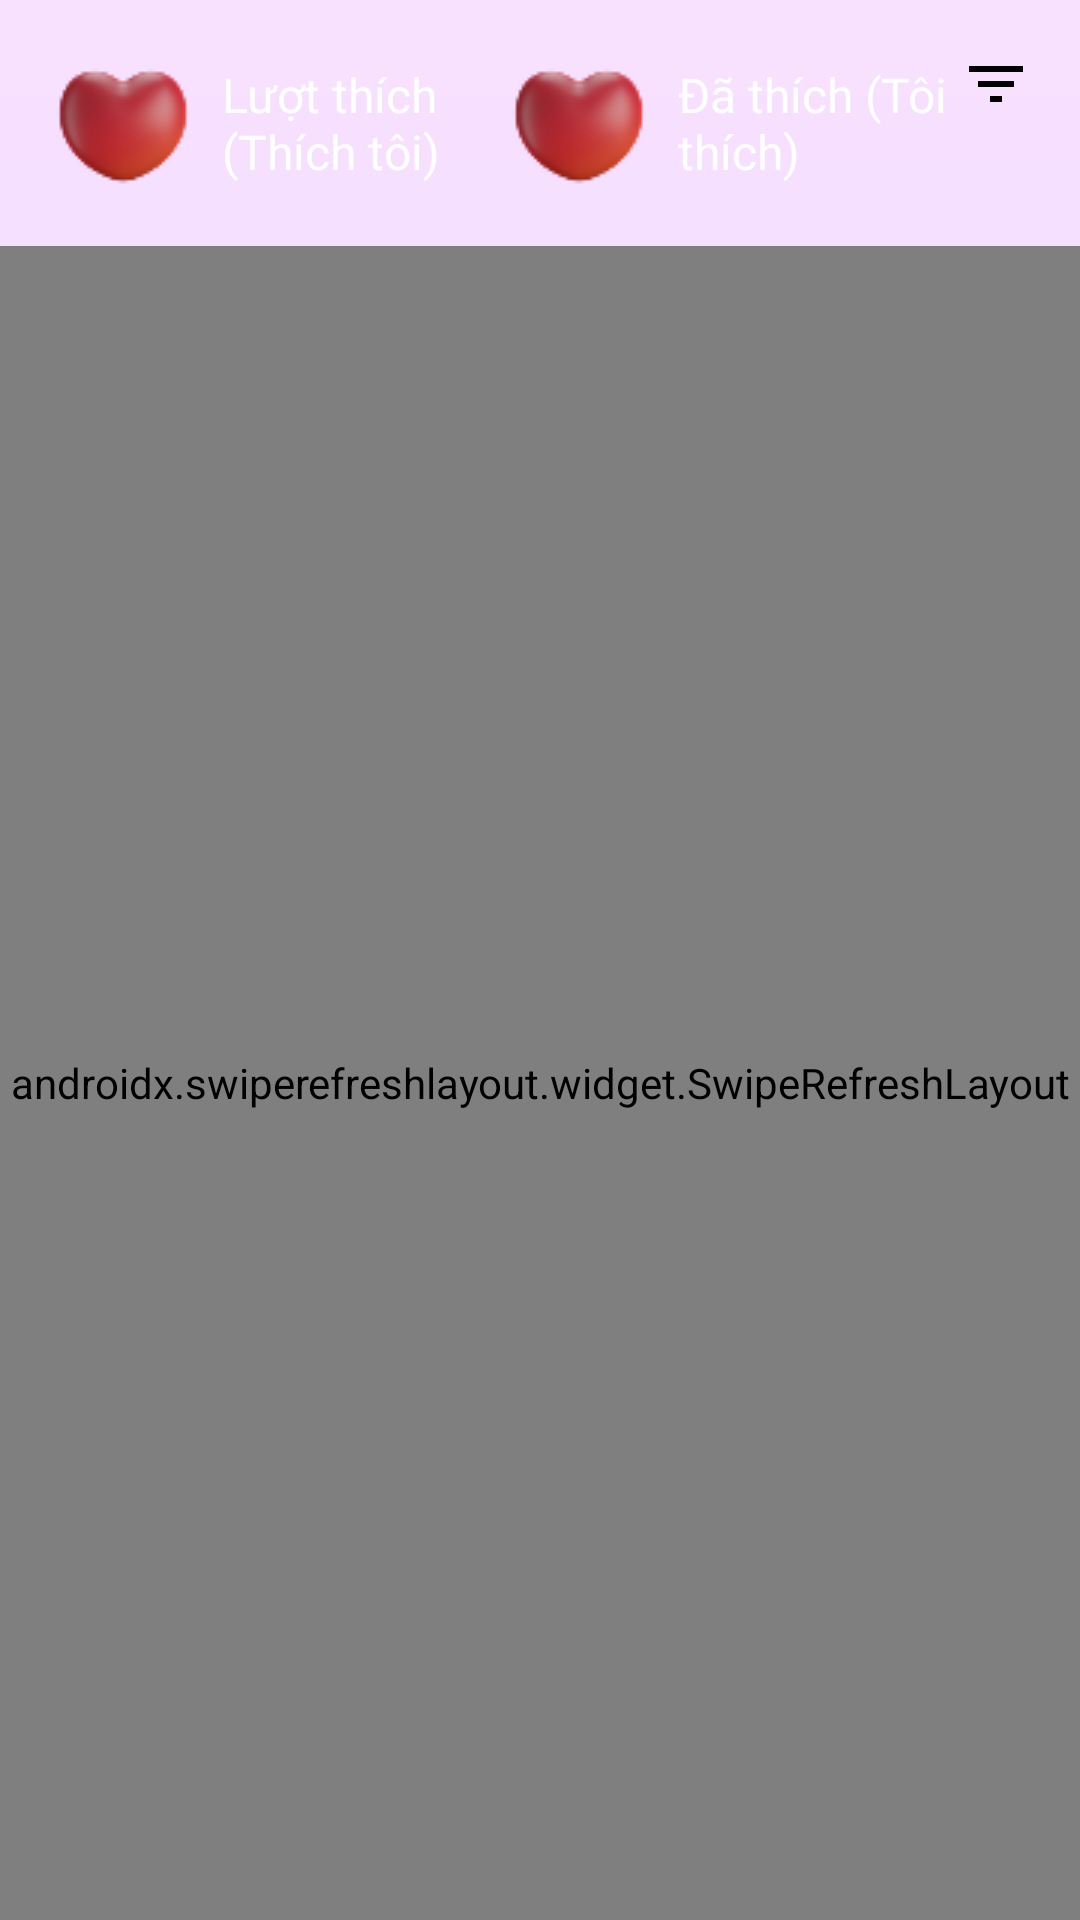

Screen size 1080px x 1920px. Icon name, then its center in pixels as [x,y]:
filter: [996,84]
heart: [123,127], [579,127]
